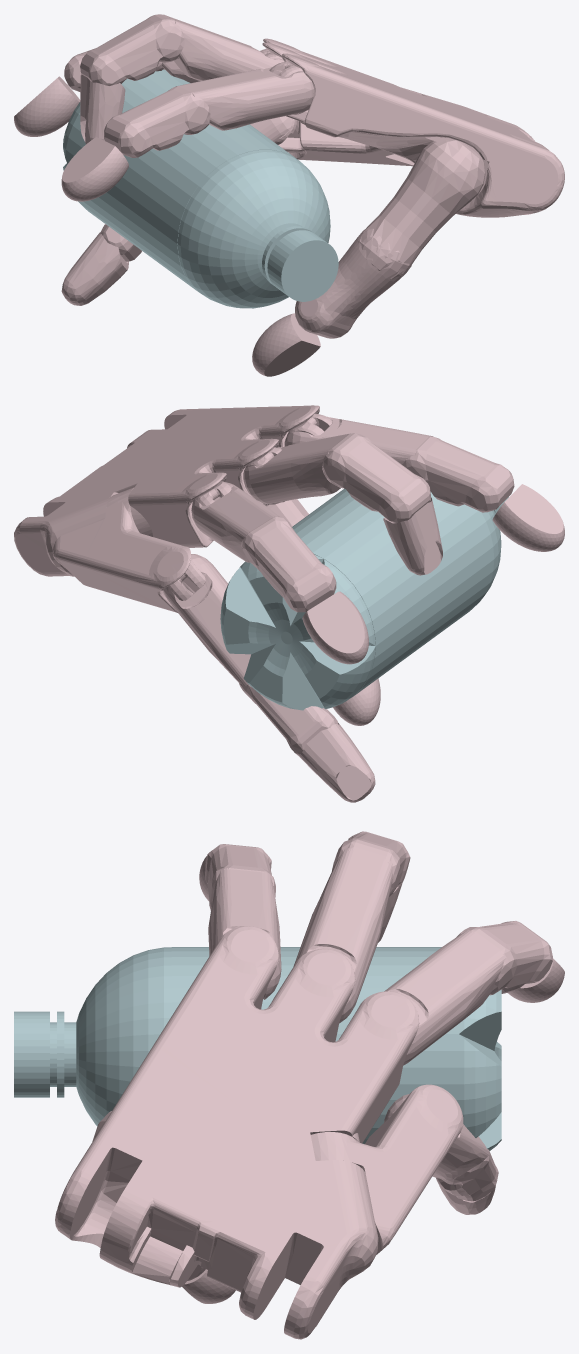
The model's file is grasp_5.glb.
3 renders of one model, top to bottom at view 1: azimuth 30°, elevation 25°; view 2: azimuth 150°, elevation 25°; view 3: azimuth 270°, elevation 25°, orthographic. The views are drawn at different scales.
Parts seen in each view (by area): view 1: world; view 2: world; view 3: world.
Boxes of the visible parts, x1,y1,x2,y2 form: world: [14, 14, 564, 376]; world: [14, 405, 564, 802]; world: [14, 831, 564, 1339].
Bounding box in the file's own units: 0.208 × 0.1317 × 0.1542.
